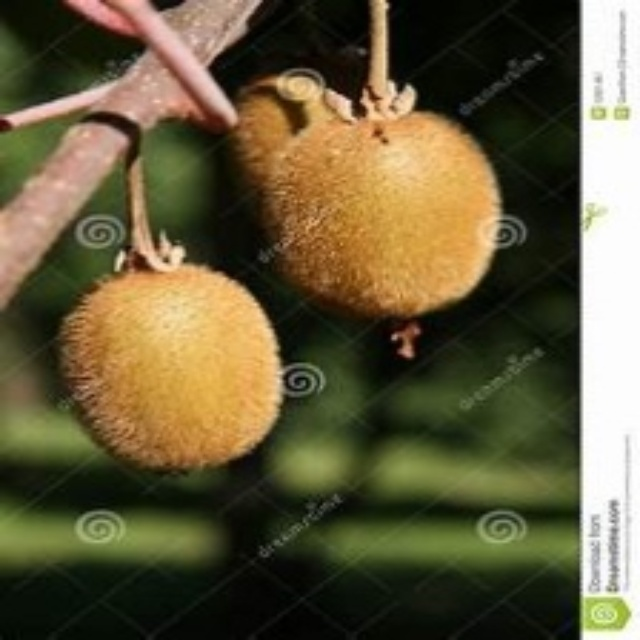kiwi: (250, 80, 507, 354), (64, 254, 285, 460)
